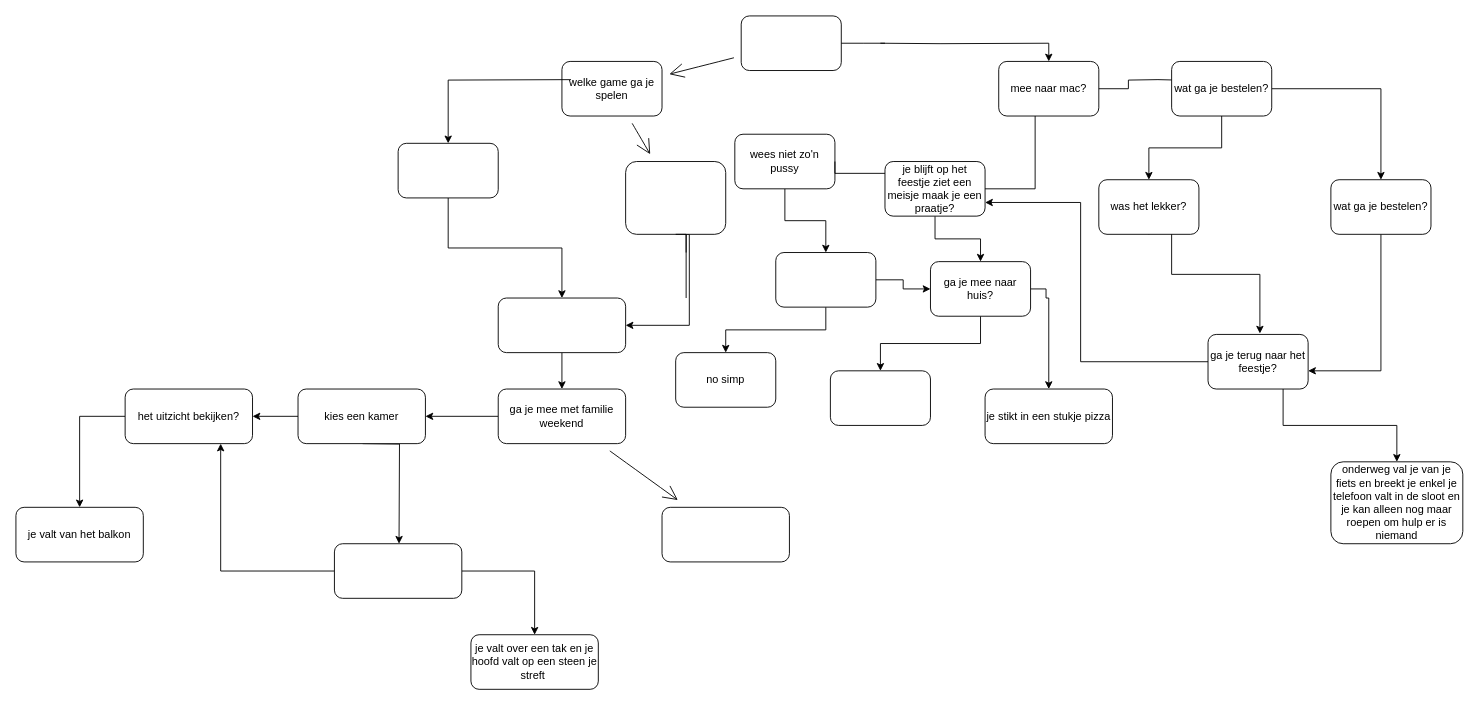
The diagram is 1479 pixels wide and 705 high, and some of its shapes have lost their labels. The shapes that lost their labels are listed below. From the top down, each one's box as (x1, y1, x2, y2) in pixels, then its label:
(740, 15, 841, 71): feestje
(397, 142, 498, 198): ge ofllined welk ander spelk word het?
(625, 161, 726, 234): je word geshit na het spelen van 3 minuten door kinderen
(775, 252, 876, 307): weet je zeker?
(497, 297, 626, 353): niemand is online want je hebt geen vrienden
(829, 370, 930, 425): je word vermoord in haar kamer
(661, 506, 789, 562): valt van trap dood
(334, 543, 462, 598): ga je het bos in
